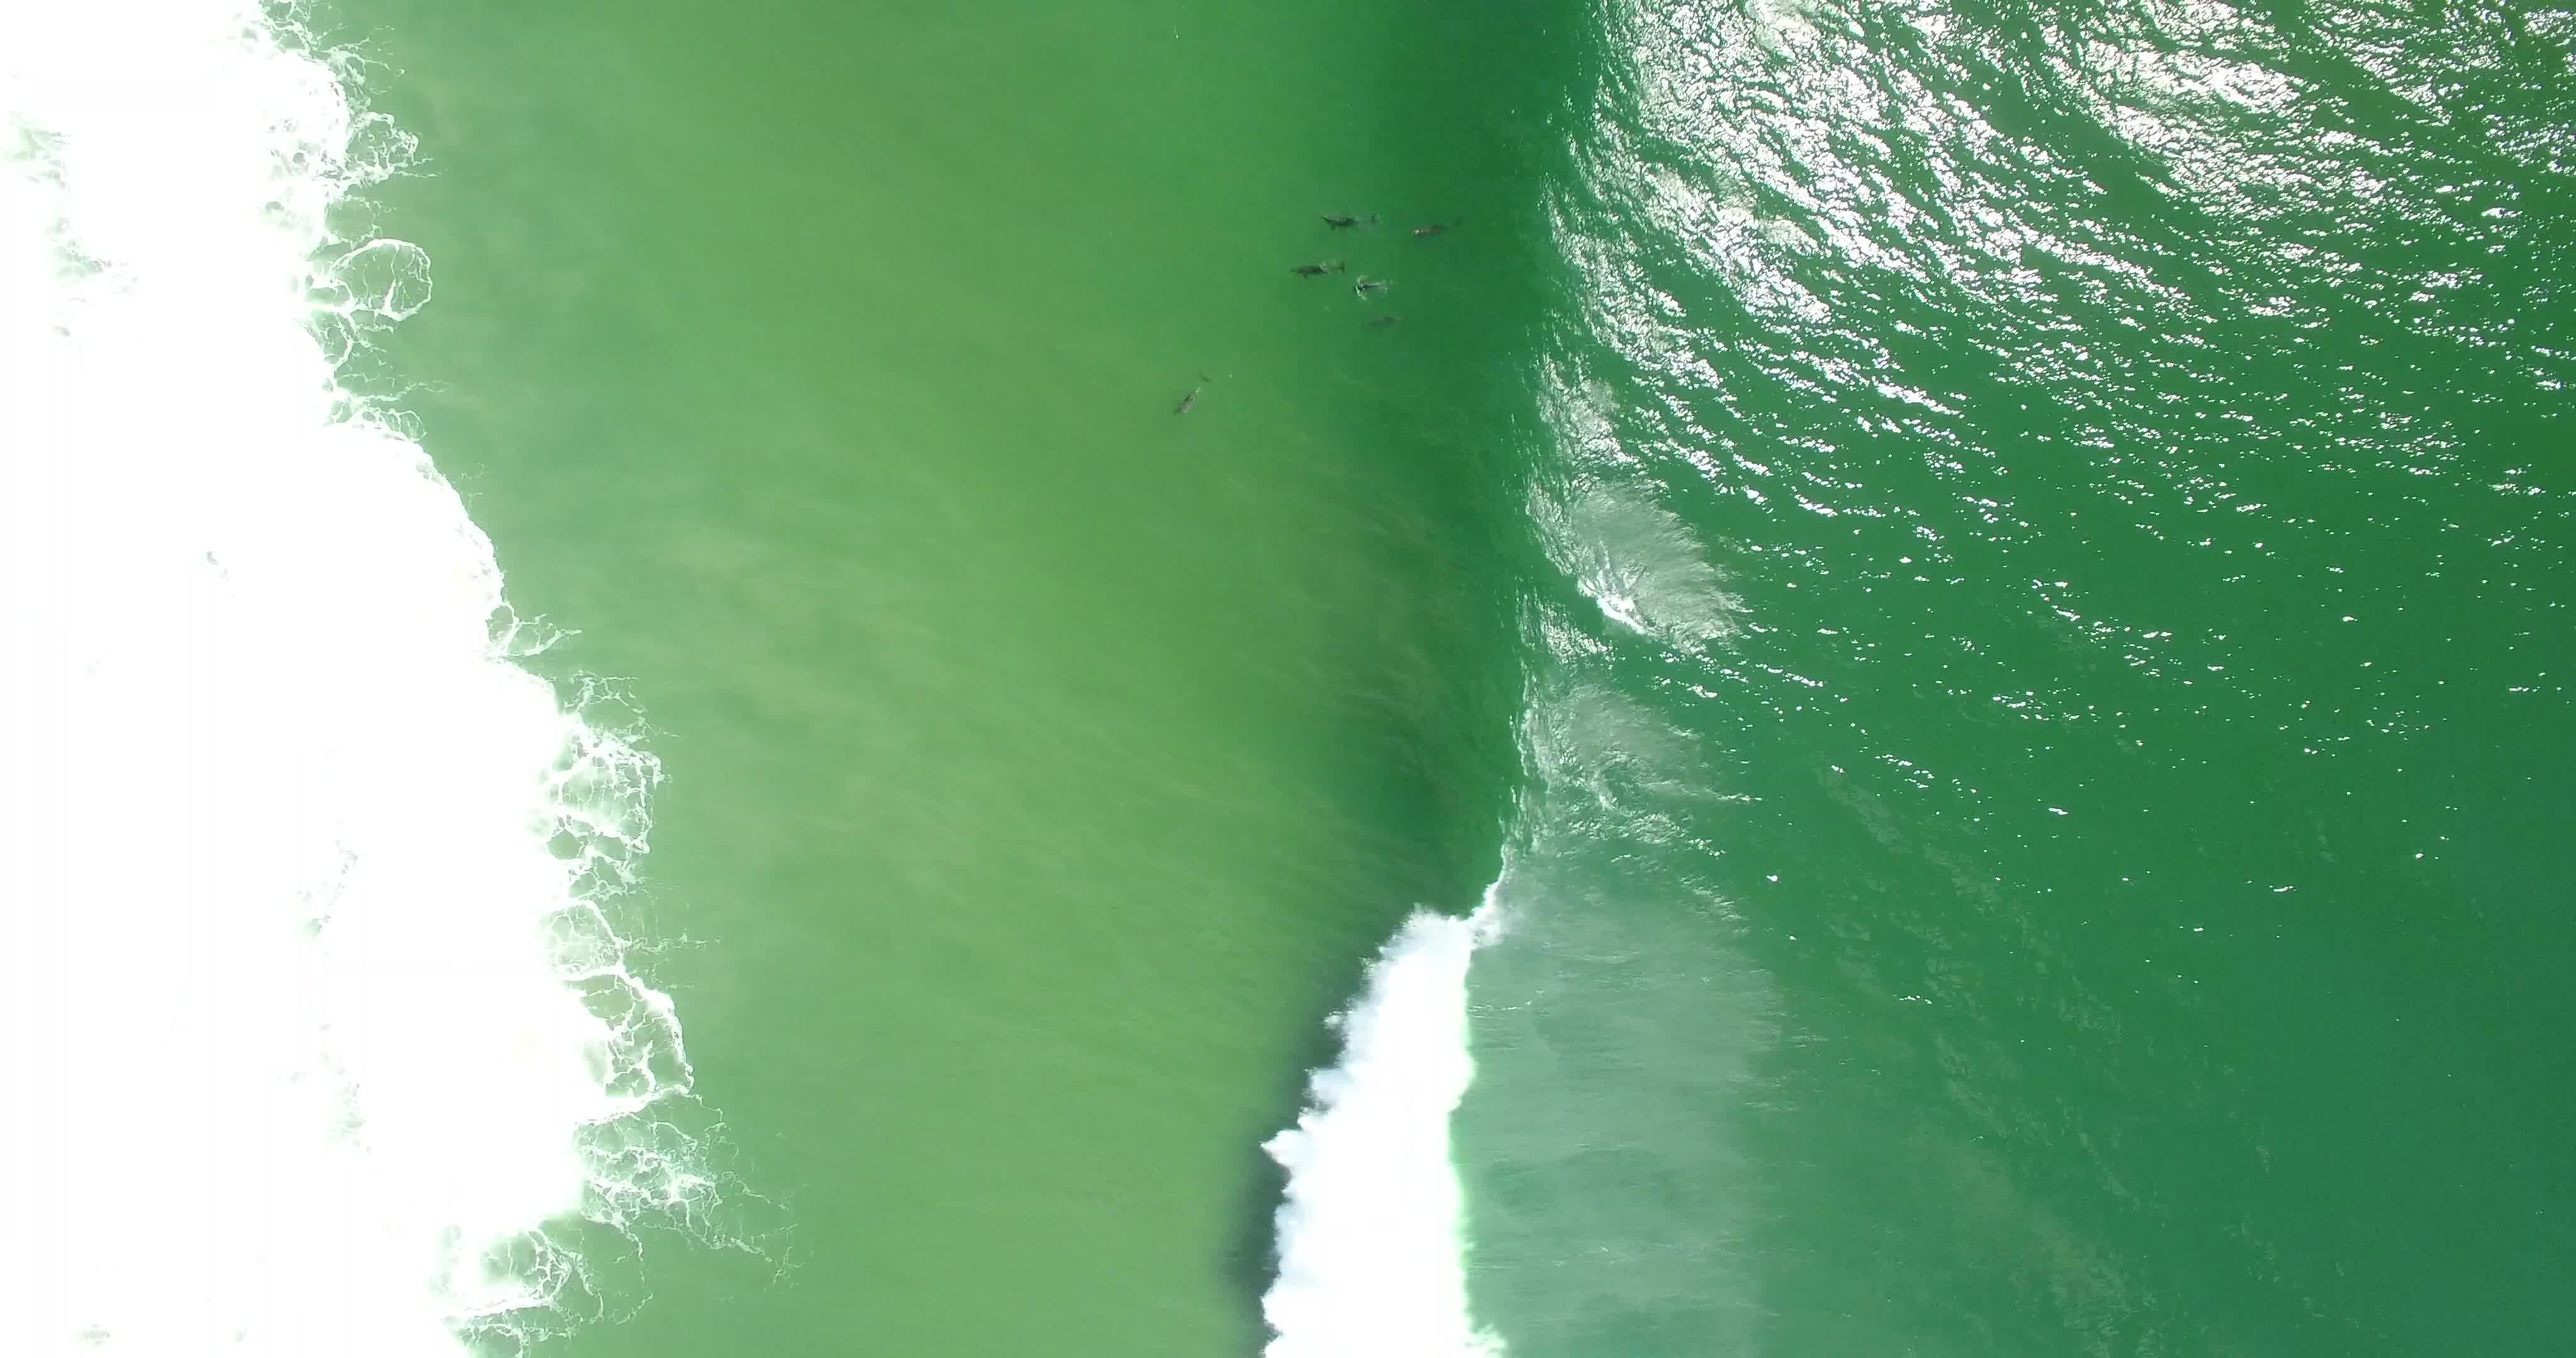dolphin: (1152, 361, 1228, 428), (1268, 250, 1356, 285), (1399, 210, 1469, 252), (1317, 201, 1389, 239), (1346, 266, 1407, 305), (1354, 298, 1416, 332)
